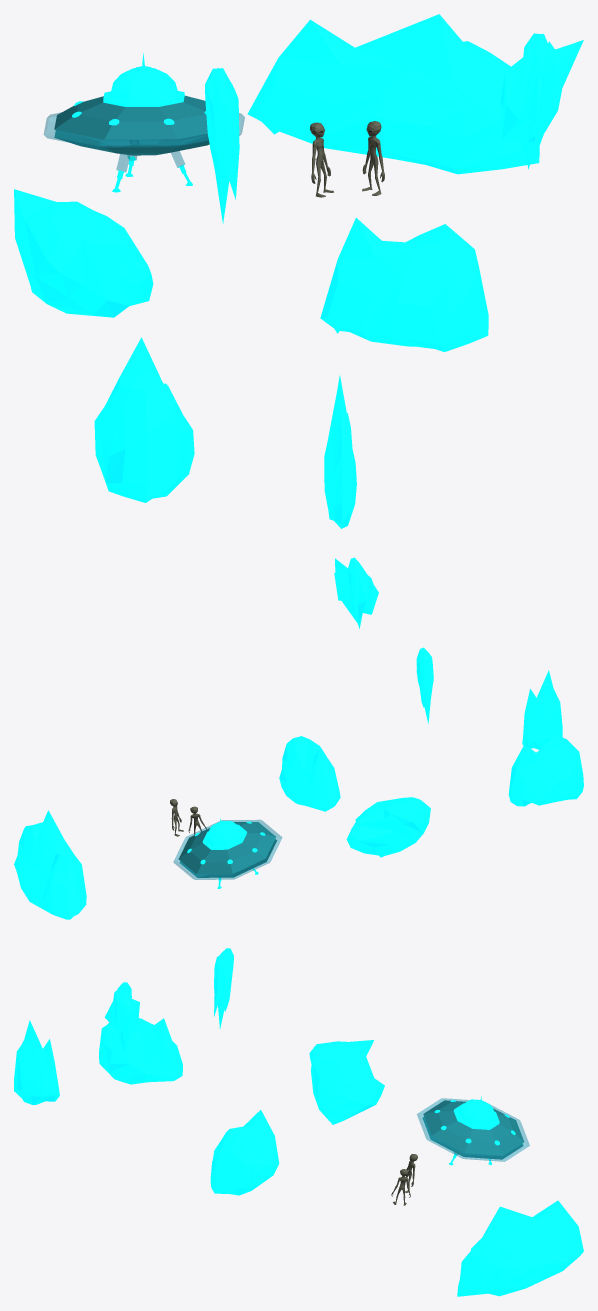
The model's file is AlienCave.glb.
The picture shows the model from 3 angles, top to bottom: view 1: azimuth 30°, elevation 25°; view 2: azimuth 150°, elevation 25°; view 3: azimuth 270°, elevation 25°; orthographic projection. The views are drawn at different scales.
Visible parts, largest first — view 1: 1222 Iceberg.011, 1222 Iceberg.008, 1222 Iceberg.009, 1222 Iceberg.007, flying sacuer, 1222 Iceberg.013, 1222 Iceberg.012, 1222 Iceberg.010, alien 2, Alien, 1222 Iceberg.006; view 2: 1222 Iceberg.011, flying sacuer, 1222 Iceberg.007, 1222 Iceberg.009, 1222 Iceberg.008, 1222 Iceberg.013, 1222 Iceberg.010, 1222 Iceberg.012, 1222 Iceberg.006; view 3: 1222 Iceberg.011, flying sacuer, 1222 Iceberg.009, 1222 Iceberg.007, 1222 Iceberg.008, 1222 Iceberg.010, 1222 Iceberg.013, 1222 Iceberg.012, 1222 Iceberg.006.
Part boxes in pixels (x1=…): 1222 Iceberg.011: x1=247, y1=14, x2=539, y2=174; 1222 Iceberg.008: x1=320, y1=218, x2=488, y2=351; 1222 Iceberg.009: x1=14, y1=189, x2=153, y2=317; 1222 Iceberg.007: x1=94, y1=337, x2=194, y2=502; flying sacuer: x1=44, y1=53, x2=244, y2=192; 1222 Iceberg.013: x1=500, y1=33, x2=583, y2=169; 1222 Iceberg.012: x1=205, y1=68, x2=239, y2=223; 1222 Iceberg.010: x1=324, y1=375, x2=356, y2=522; alien 2: x1=362, y1=121, x2=384, y2=195; Alien: x1=310, y1=122, x2=333, y2=197; 1222 Iceberg.006: x1=324, y1=441, x2=356, y2=528; 1222 Iceberg.011: x1=14, y1=810, x2=86, y2=919; flying sacuer: x1=173, y1=818, x2=282, y2=888; 1222 Iceberg.007: x1=508, y1=735, x2=583, y2=806; 1222 Iceberg.009: x1=346, y1=797, x2=430, y2=857; 1222 Iceberg.008: x1=279, y1=736, x2=340, y2=811; 1222 Iceberg.013: x1=334, y1=557, x2=378, y2=628; 1222 Iceberg.010: x1=522, y1=670, x2=562, y2=742; 1222 Iceberg.012: x1=416, y1=647, x2=433, y2=724; 1222 Iceberg.006: x1=522, y1=716, x2=562, y2=749; 1222 Iceberg.011: x1=457, y1=1200, x2=583, y2=1296; flying sacuer: x1=417, y1=1096, x2=529, y2=1165; 1222 Iceberg.009: x1=309, y1=1040, x2=384, y2=1124; 1222 Iceberg.007: x1=99, y1=1018, x2=182, y2=1084; 1222 Iceberg.008: x1=210, y1=1110, x2=279, y2=1195; 1222 Iceberg.010: x1=14, y1=1020, x2=59, y2=1095; 1222 Iceberg.013: x1=104, y1=982, x2=139, y2=1052; 1222 Iceberg.012: x1=214, y1=948, x2=233, y2=1029; 1222 Iceberg.006: x1=14, y1=1065, x2=59, y2=1104.
Size of the model in its own units: 31 by 17.82 by 37.97.
Materials: 4 (1 with a texture image).
